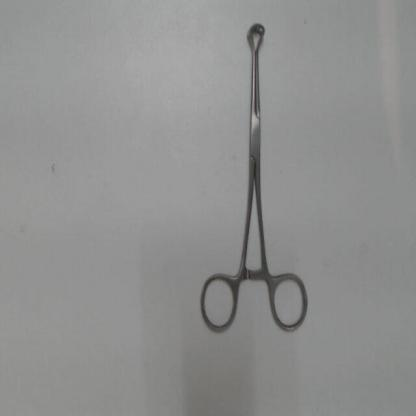Babcock Tissue Forceps: (198, 19, 312, 336)
